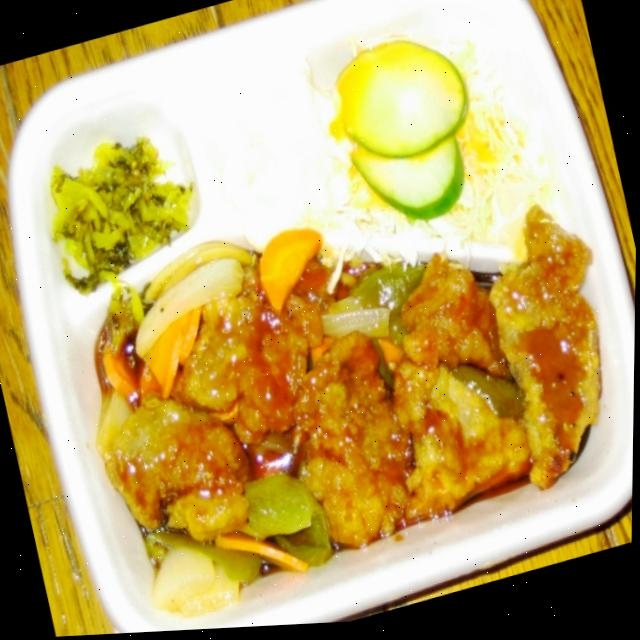猪肉菜式: (51, 143, 638, 633)
